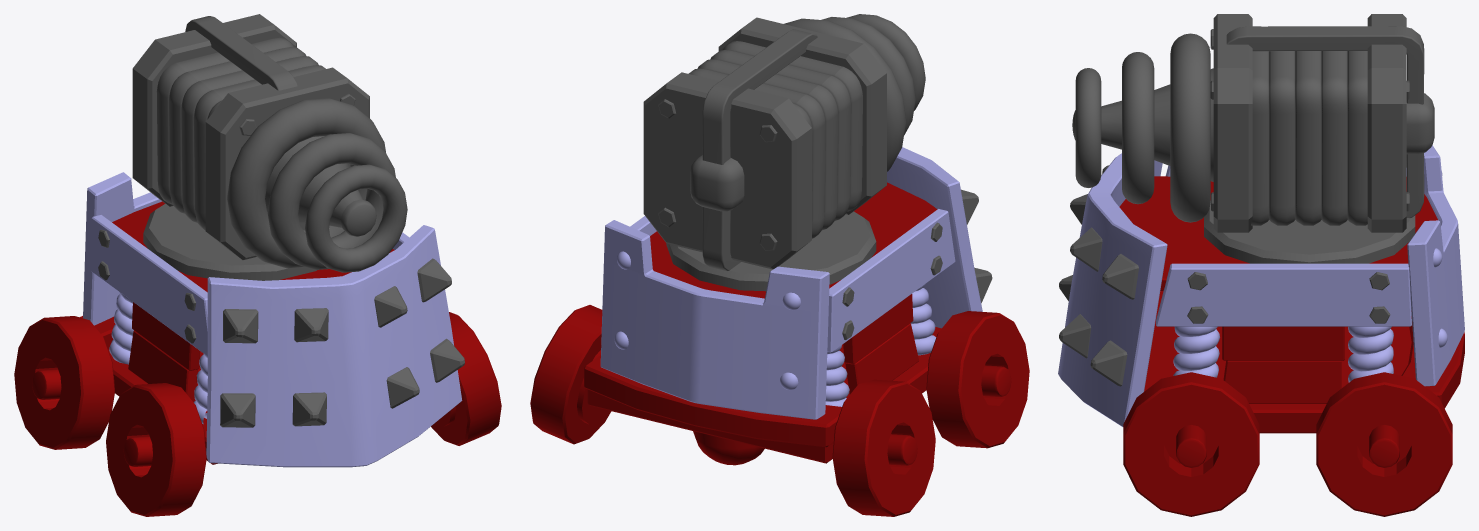
The model's file is Chispita.fbx.
3 renders of one model, left to right at view 1: azimuth 30°, elevation 25°; view 2: azimuth 150°, elevation 25°; view 3: azimuth 270°, elevation 25°, orthographic. The views are drawn at different scales.
Visible parts, largest first — view 1: BlindajeDelantera, Ruedas, CargaSuperior, Puas, BaseBobina_01, BlindajeMaderaLateral, BaseBobina_02, Base, BlindajeTrasera, BaseCarga, Fierro, Cable_03 (+10 smaller); view 2: BlindajeTrasera, Ruedas, BaseBobina_02, BlindajeMaderaLateral, BaseBlindaje, Fierro, BaseBobina_01, BlindajeDelantera, CargaSuperior, Base, Base_02, Base_01 (+13 smaller); view 3: Ruedas, CargaSuperior, BlindajeMaderaLateral, BlindajeDelantera, BlindajeTrasera, BaseBobina_01, BaseBobina_02, Base, Fierro, Base_01, Base_02, TablonArmadura_02 (+14 smaller).
Part boxes in pixels (x1,y1,x2,y2): BlindajeDelantera: [206, 225, 462, 467]; Ruedas: [14, 312, 501, 516]; CargaSuperior: [227, 98, 407, 272]; Puas: [220, 258, 464, 427]; BaseBobina_01: [205, 67, 369, 259]; BlindajeMaderaLateral: [90, 215, 409, 355]; BaseBobina_02: [132, 14, 296, 206]; Base: [143, 204, 316, 280]; BlindajeTrasera: [83, 172, 161, 325]; BaseCarga: [265, 136, 376, 236]; Fierro: [185, 16, 297, 90]; Cable_03: [181, 56, 318, 222]; BlindajeTrasera: [600, 220, 829, 419]; Ruedas: [530, 305, 1029, 516]; BaseBobina_02: [643, 72, 811, 269]; BlindajeMaderaLateral: [630, 209, 955, 352]; BaseBlindaje: [584, 355, 841, 447]; Fierro: [702, 29, 817, 270]; BaseBobina_01: [718, 17, 886, 214]; BlindajeDelantera: [887, 147, 982, 328]; CargaSuperior: [784, 14, 925, 171]; Base: [666, 211, 876, 291]; Base_02: [650, 182, 937, 298]; Base_01: [587, 327, 941, 463]; Ruedas: [1123, 372, 1452, 516]; CargaSuperior: [1075, 33, 1210, 222]; BlindajeMaderaLateral: [1156, 165, 1411, 326]; BlindajeDelantera: [1058, 153, 1167, 426]; BlindajeTrasera: [1407, 145, 1464, 386]; BaseBobina_01: [1213, 14, 1252, 232]; BaseBobina_02: [1367, 14, 1406, 232]; Base: [1204, 200, 1415, 263]; Fierro: [1226, 26, 1424, 217]; Base_01: [1144, 291, 1411, 433]; Base_02: [1119, 176, 1437, 289]; TablonArmadura_02: [1223, 360, 1341, 403].
Size of the model in its own units: 8.21 by 8.57 by 7.83.
